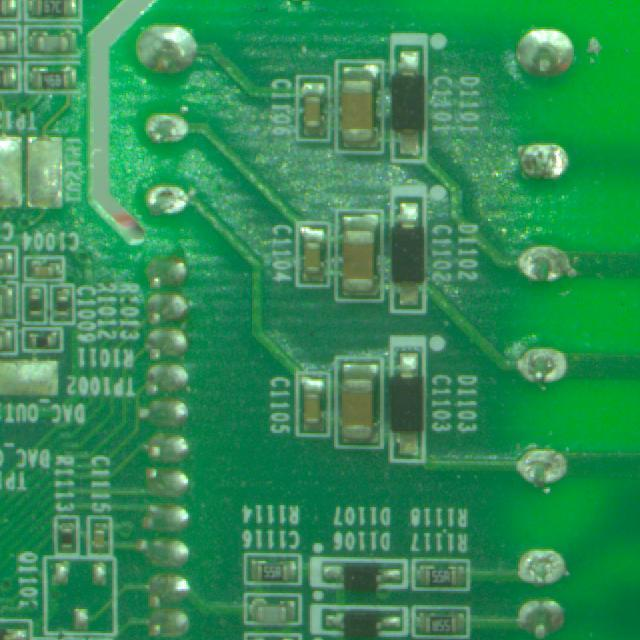Insufficient solder: (144, 182, 207, 235), (515, 342, 571, 396), (519, 446, 573, 495), (518, 543, 571, 588), (516, 140, 574, 181), (524, 243, 565, 288)
